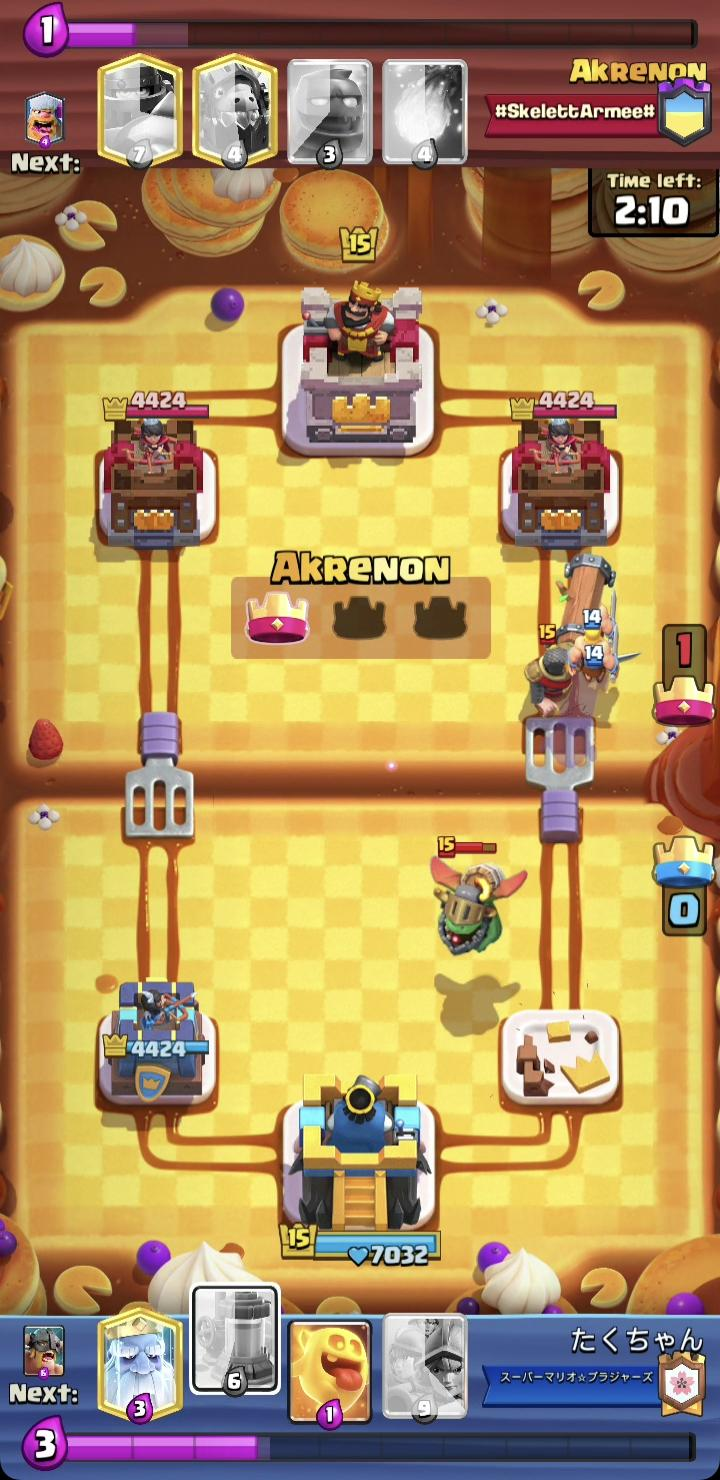ally_barbarian: (570, 586, 619, 670)
enemy_infernodragon: (429, 833, 529, 956)
enemy_knight: (526, 621, 584, 720)
